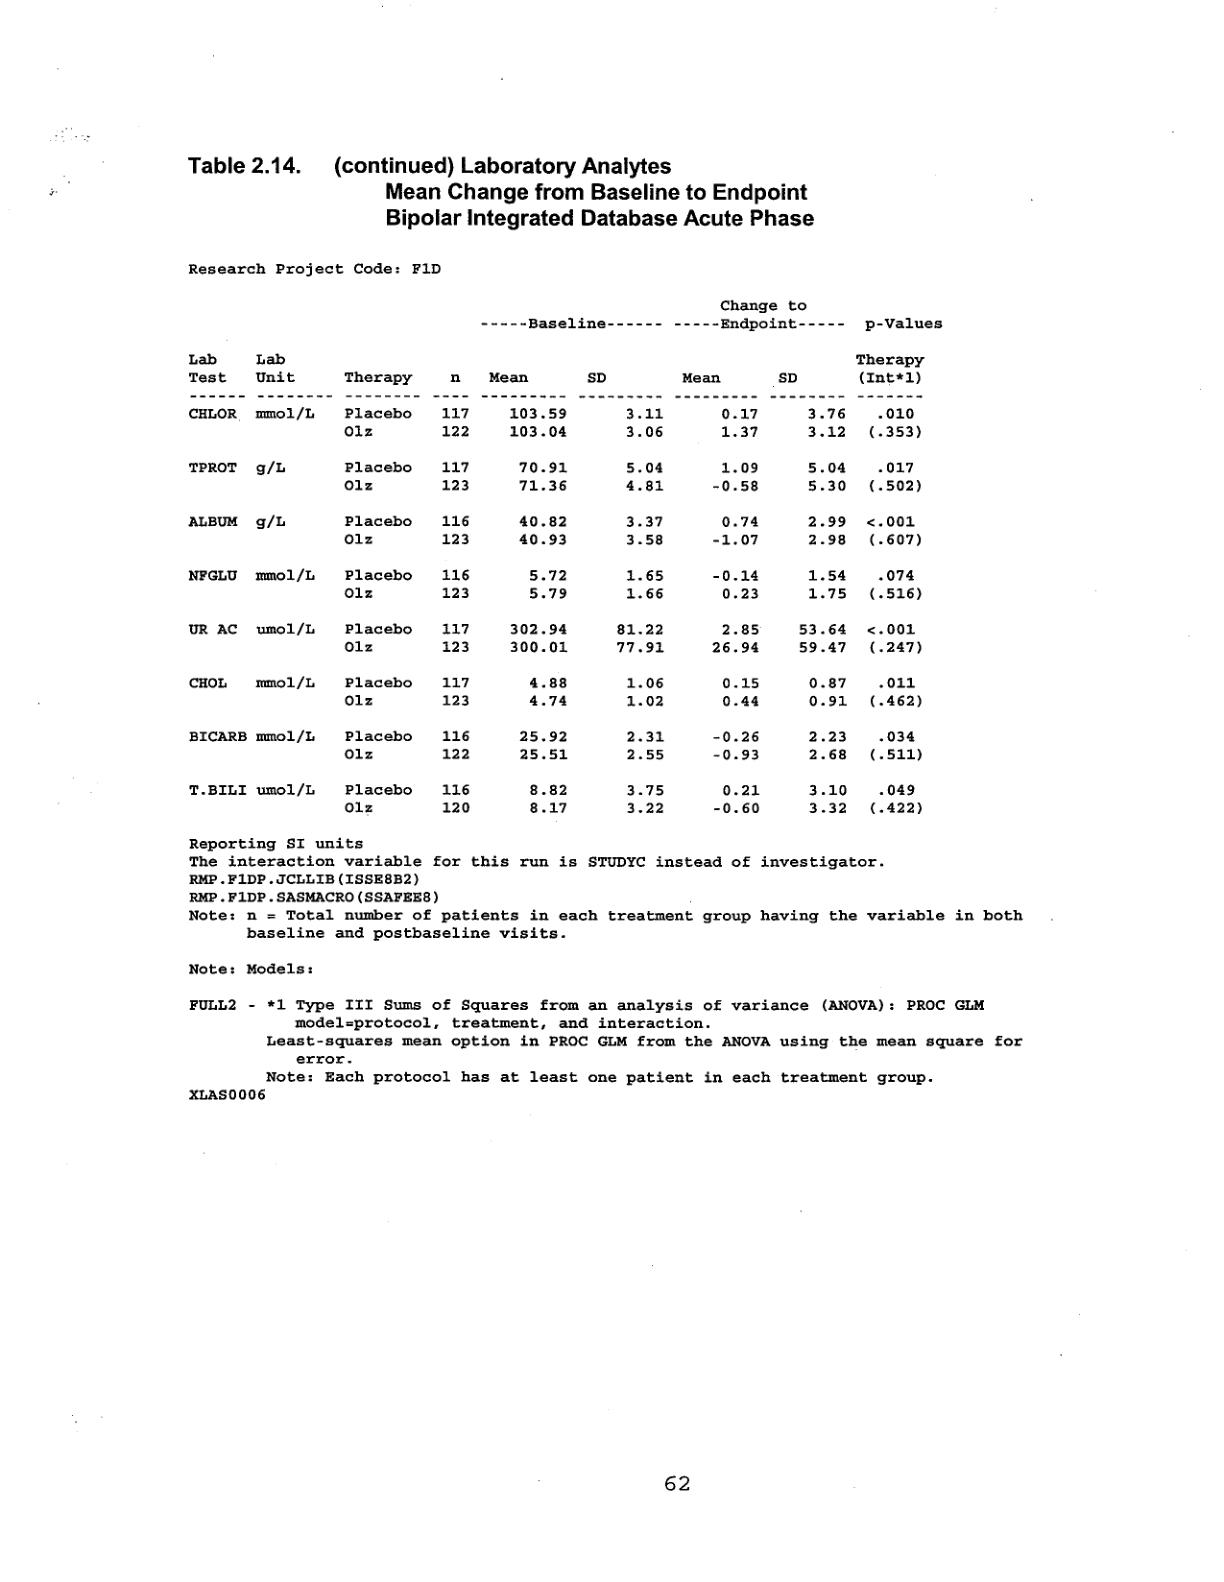nolines: (190, 299, 944, 818)
